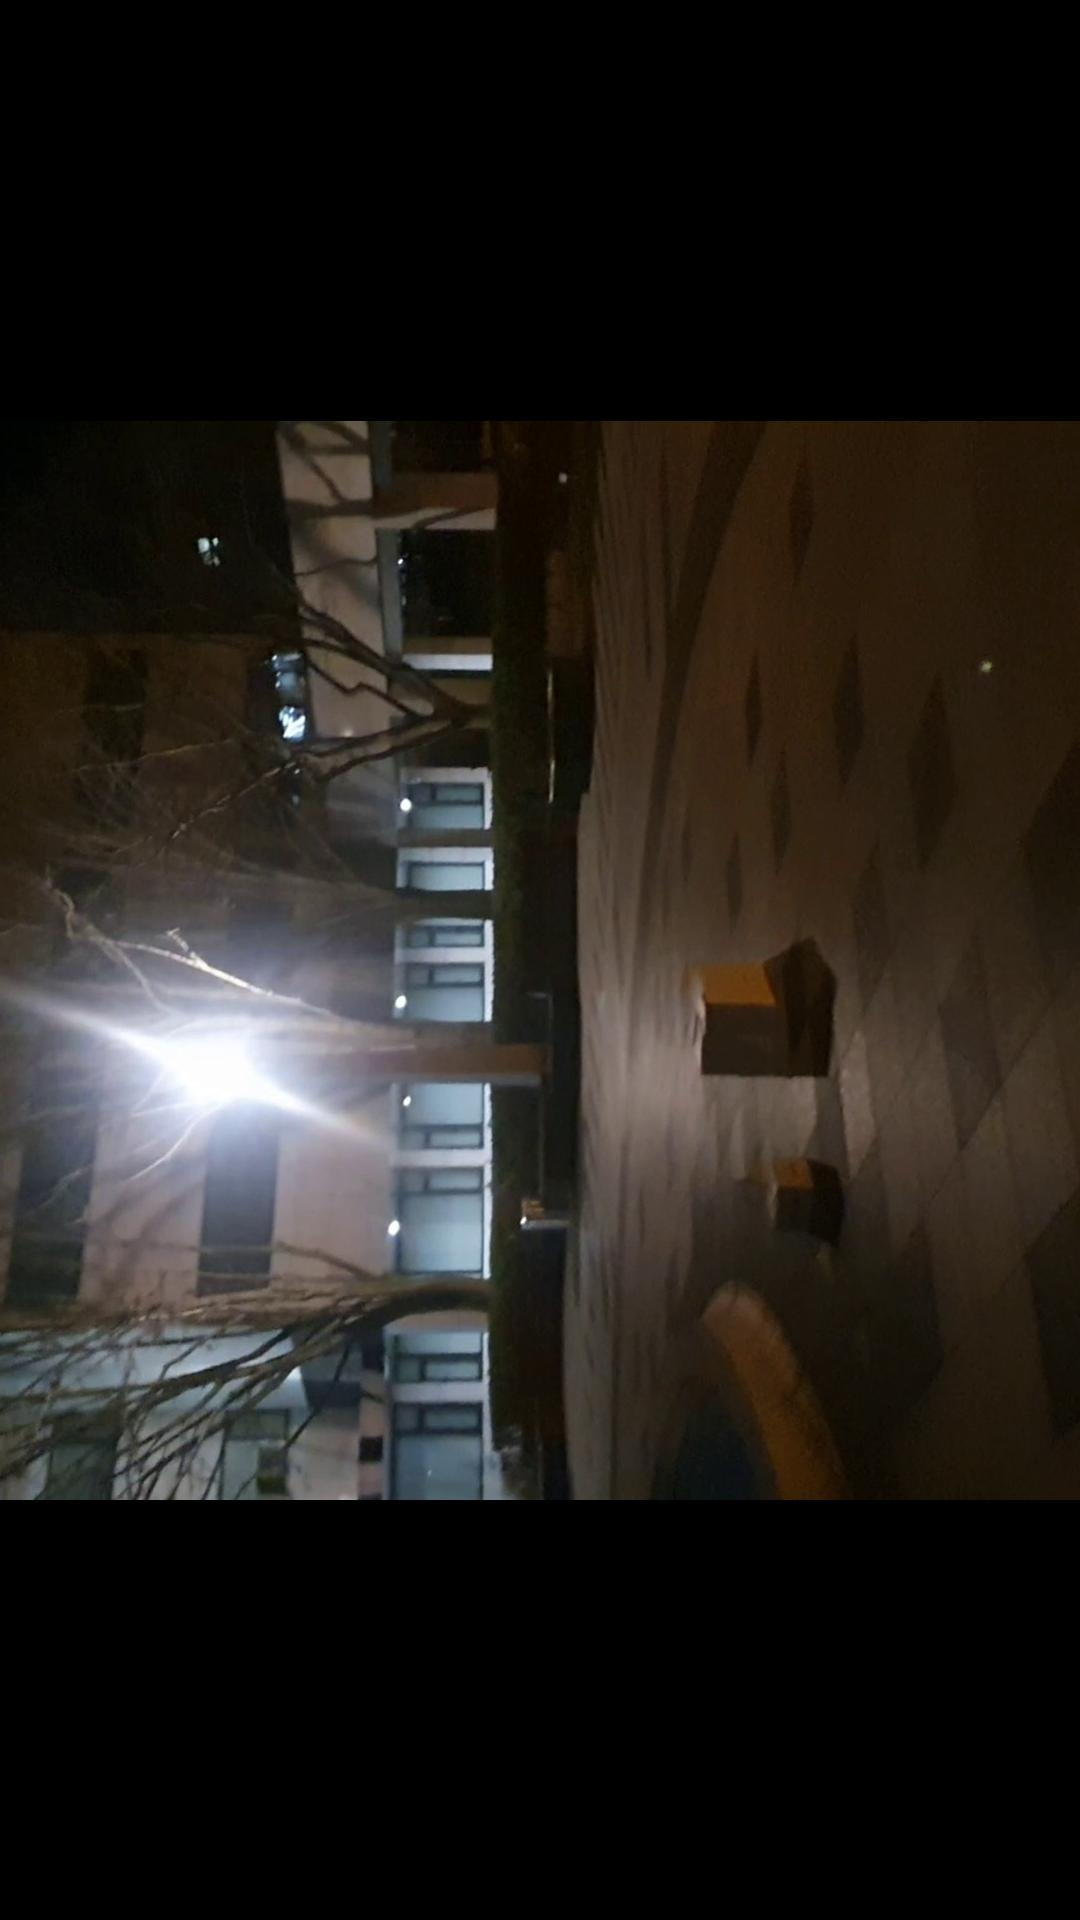Box: (670, 953, 818, 1083), (760, 1149, 825, 1242)
